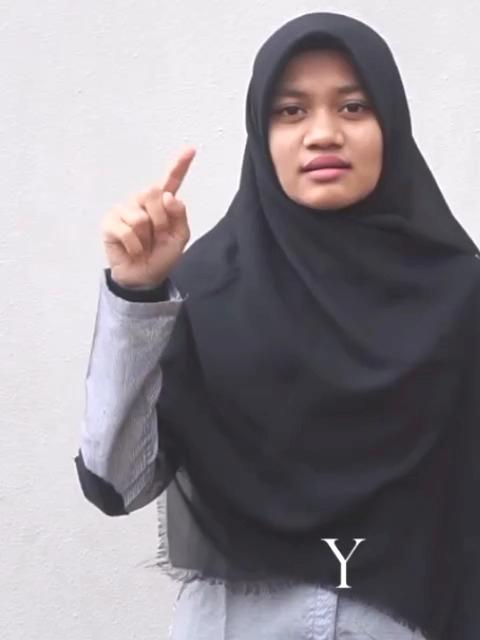Z: (98, 142, 200, 280)
